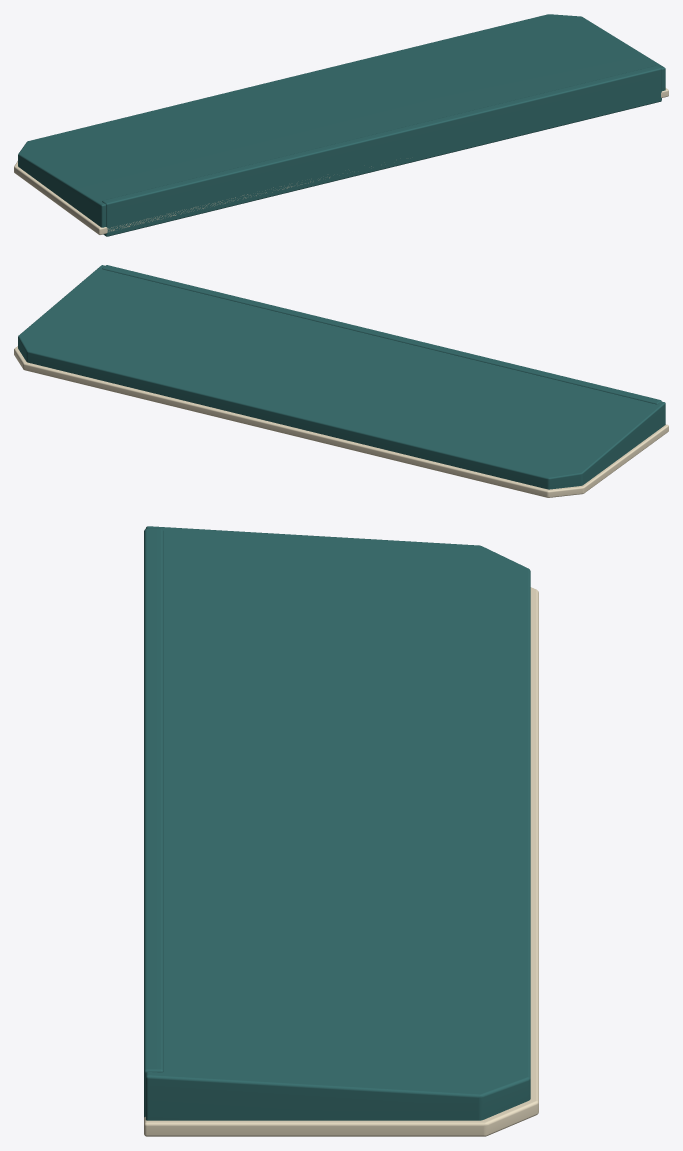
File: d05_harbour_hall_02.glb
The picture shows the model from 3 angles, top to bottom: view 1: azimuth 30°, elevation 25°; view 2: azimuth 150°, elevation 25°; view 3: azimuth 270°, elevation 25°; orthographic projection. The views are drawn at different scales.
Visible parts, largest first — view 1: D05HarbourHall02_Mesh; view 2: D05HarbourHall02_Mesh; view 3: D05HarbourHall02_Mesh.
Part boxes in pixels (left/top/right/bottom): D05HarbourHall02_Mesh: left=14, top=14, right=668, bottom=236; D05HarbourHall02_Mesh: left=14, top=265, right=668, bottom=497; D05HarbourHall02_Mesh: left=144, top=526, right=538, bottom=1136.
Bounding box in the file's own units: 8 × 0.45 × 2.4.
